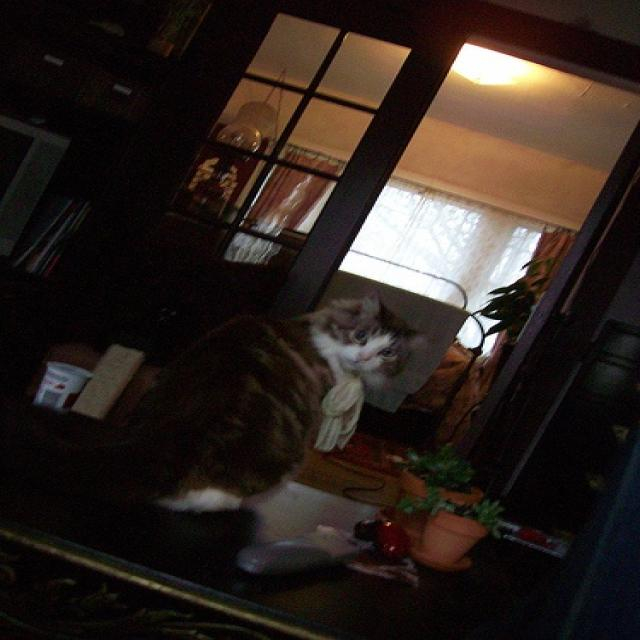cat: (135, 293, 421, 512)
pottedplant: (398, 489, 505, 571), (398, 442, 483, 520)
